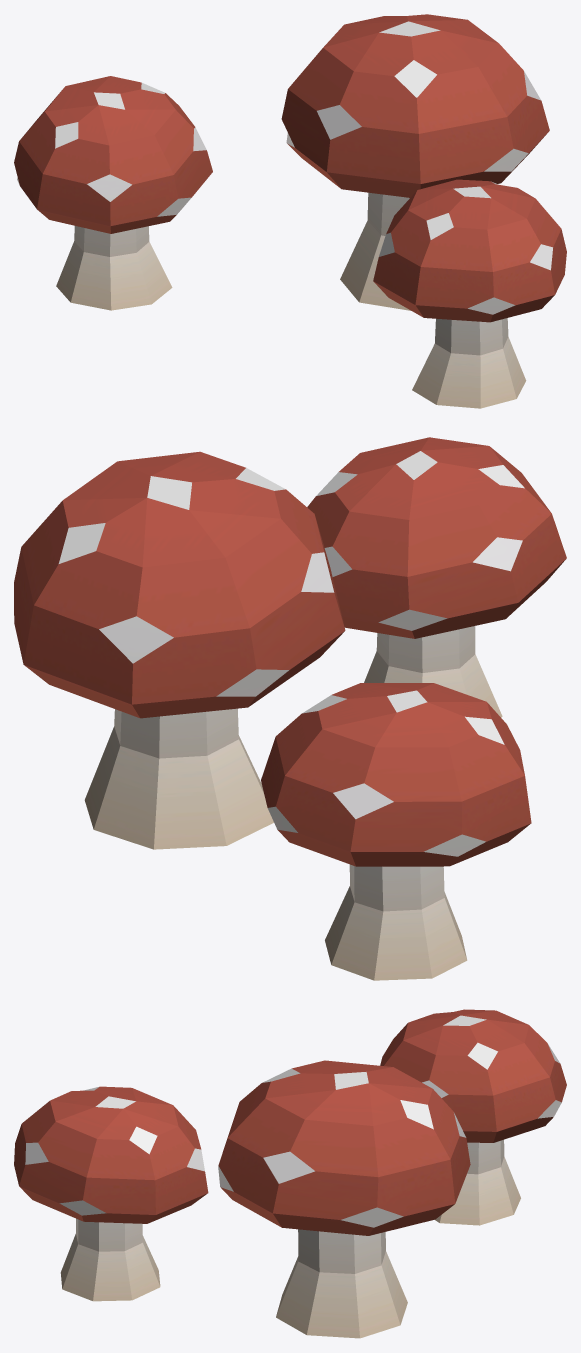
The picture shows the model from 3 angles, top to bottom: view 1: azimuth 30°, elevation 25°; view 2: azimuth 150°, elevation 25°; view 3: azimuth 270°, elevation 25°; orthographic projection. The views are drawn at different scales.
Visible parts, largest first — view 1: Mushrooms; view 2: Mushrooms; view 3: Mushrooms.
Part boxes in pixels (x1,y1,x2,y2): Mushrooms: (14, 14, 566, 408); Mushrooms: (14, 437, 566, 980); Mushrooms: (14, 1009, 566, 1338).
Bounding box in the file's own units: 0.8023 × 0.4429 × 0.9519.
1 material, 1 textured.
